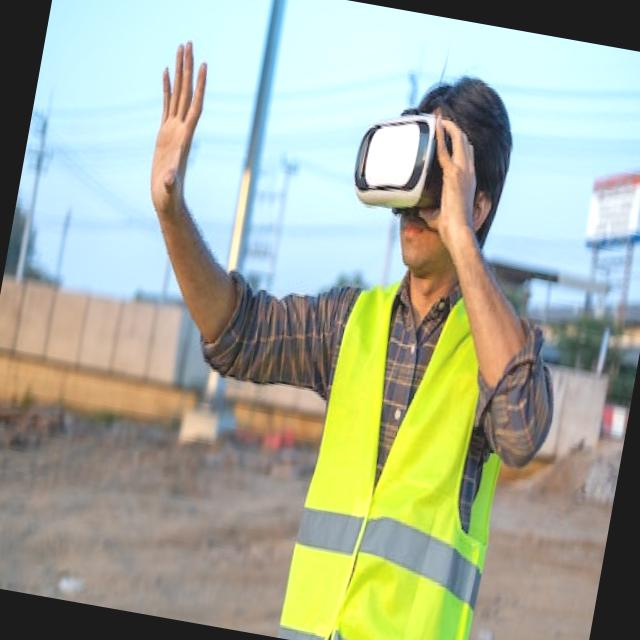no-helmet: (398, 25, 530, 138)
vest: (273, 267, 532, 640)
